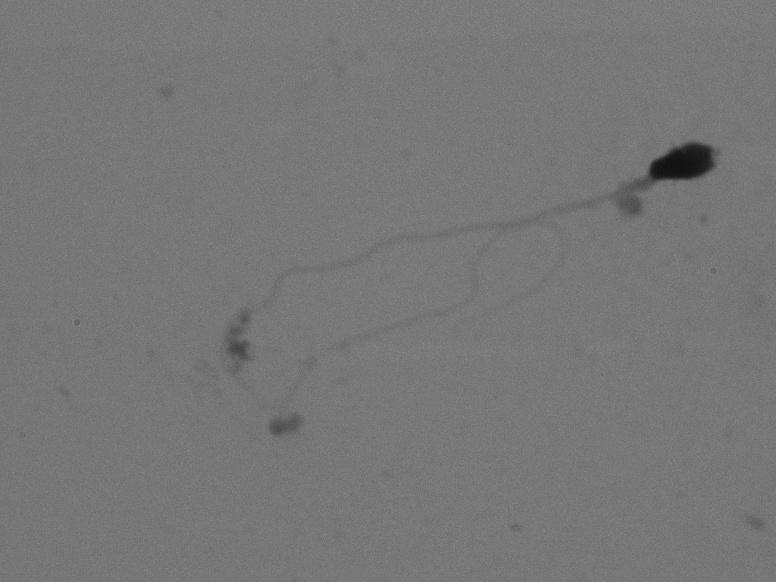Abnormal: (202, 125, 735, 427)
